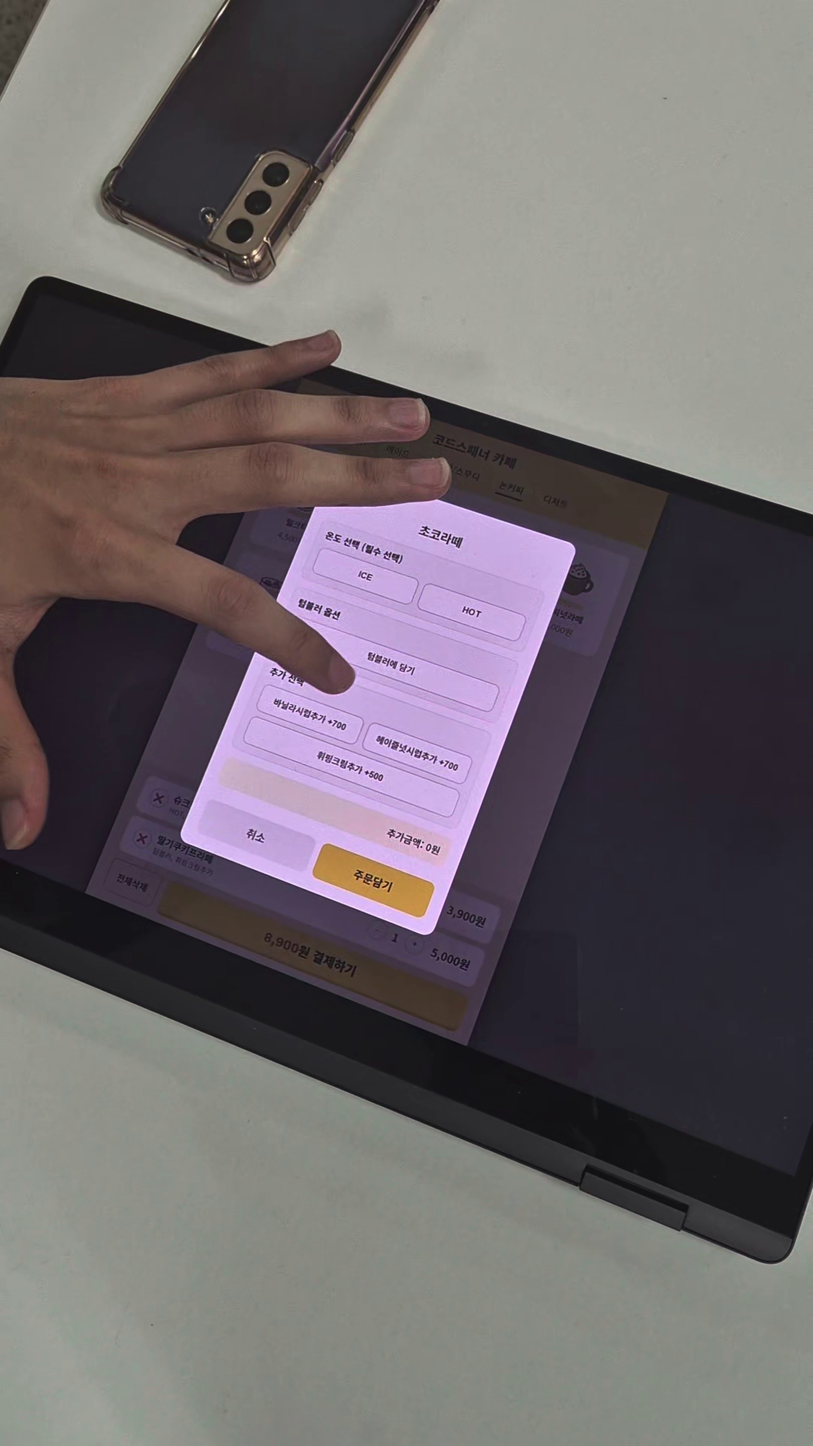action_button: (191, 794, 323, 879), (311, 839, 436, 921)
menu_name: (411, 520, 471, 553)
option_button: (237, 710, 463, 821), (276, 613, 502, 715), (308, 546, 422, 608), (415, 582, 529, 644), (362, 722, 474, 785), (256, 684, 364, 747)
popup_modal: (173, 459, 577, 942)
